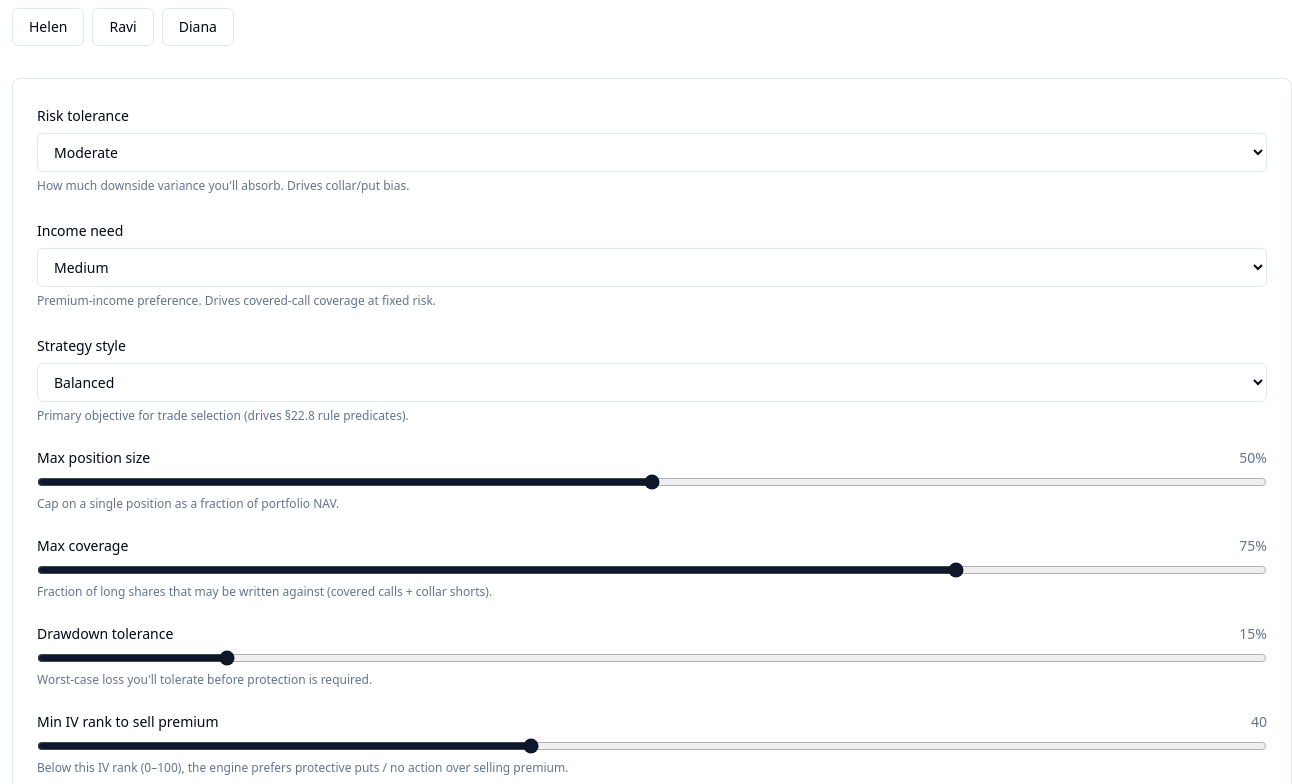
it: UserStrategyProfileForm › keeps Save disabled until a field changes
Select "Growth" in the dropdown with test id "field-style": (652, 382) x1=37 y1=363 x2=1267 y2=402
(page scrolled)
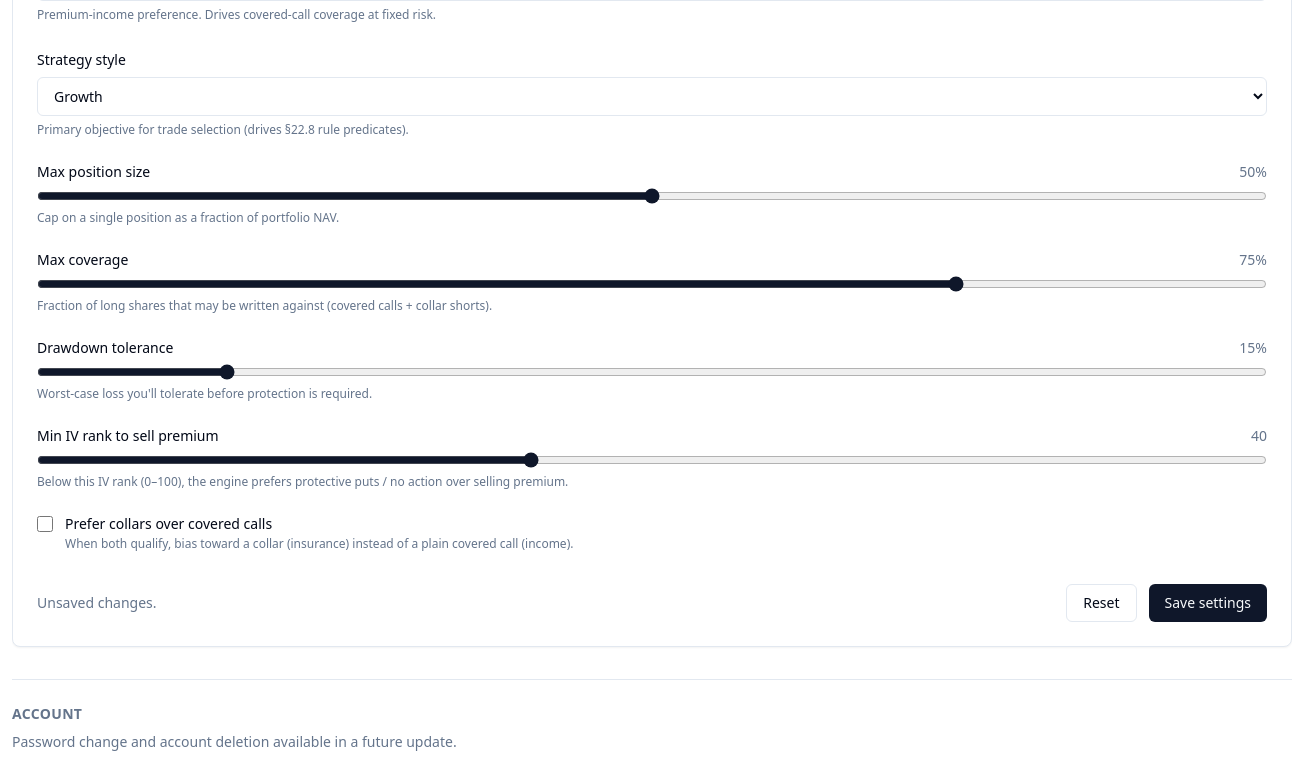
Expected: the button with test id "save-button" is enabled, x1=1148 y1=584 x2=1267 y2=622
